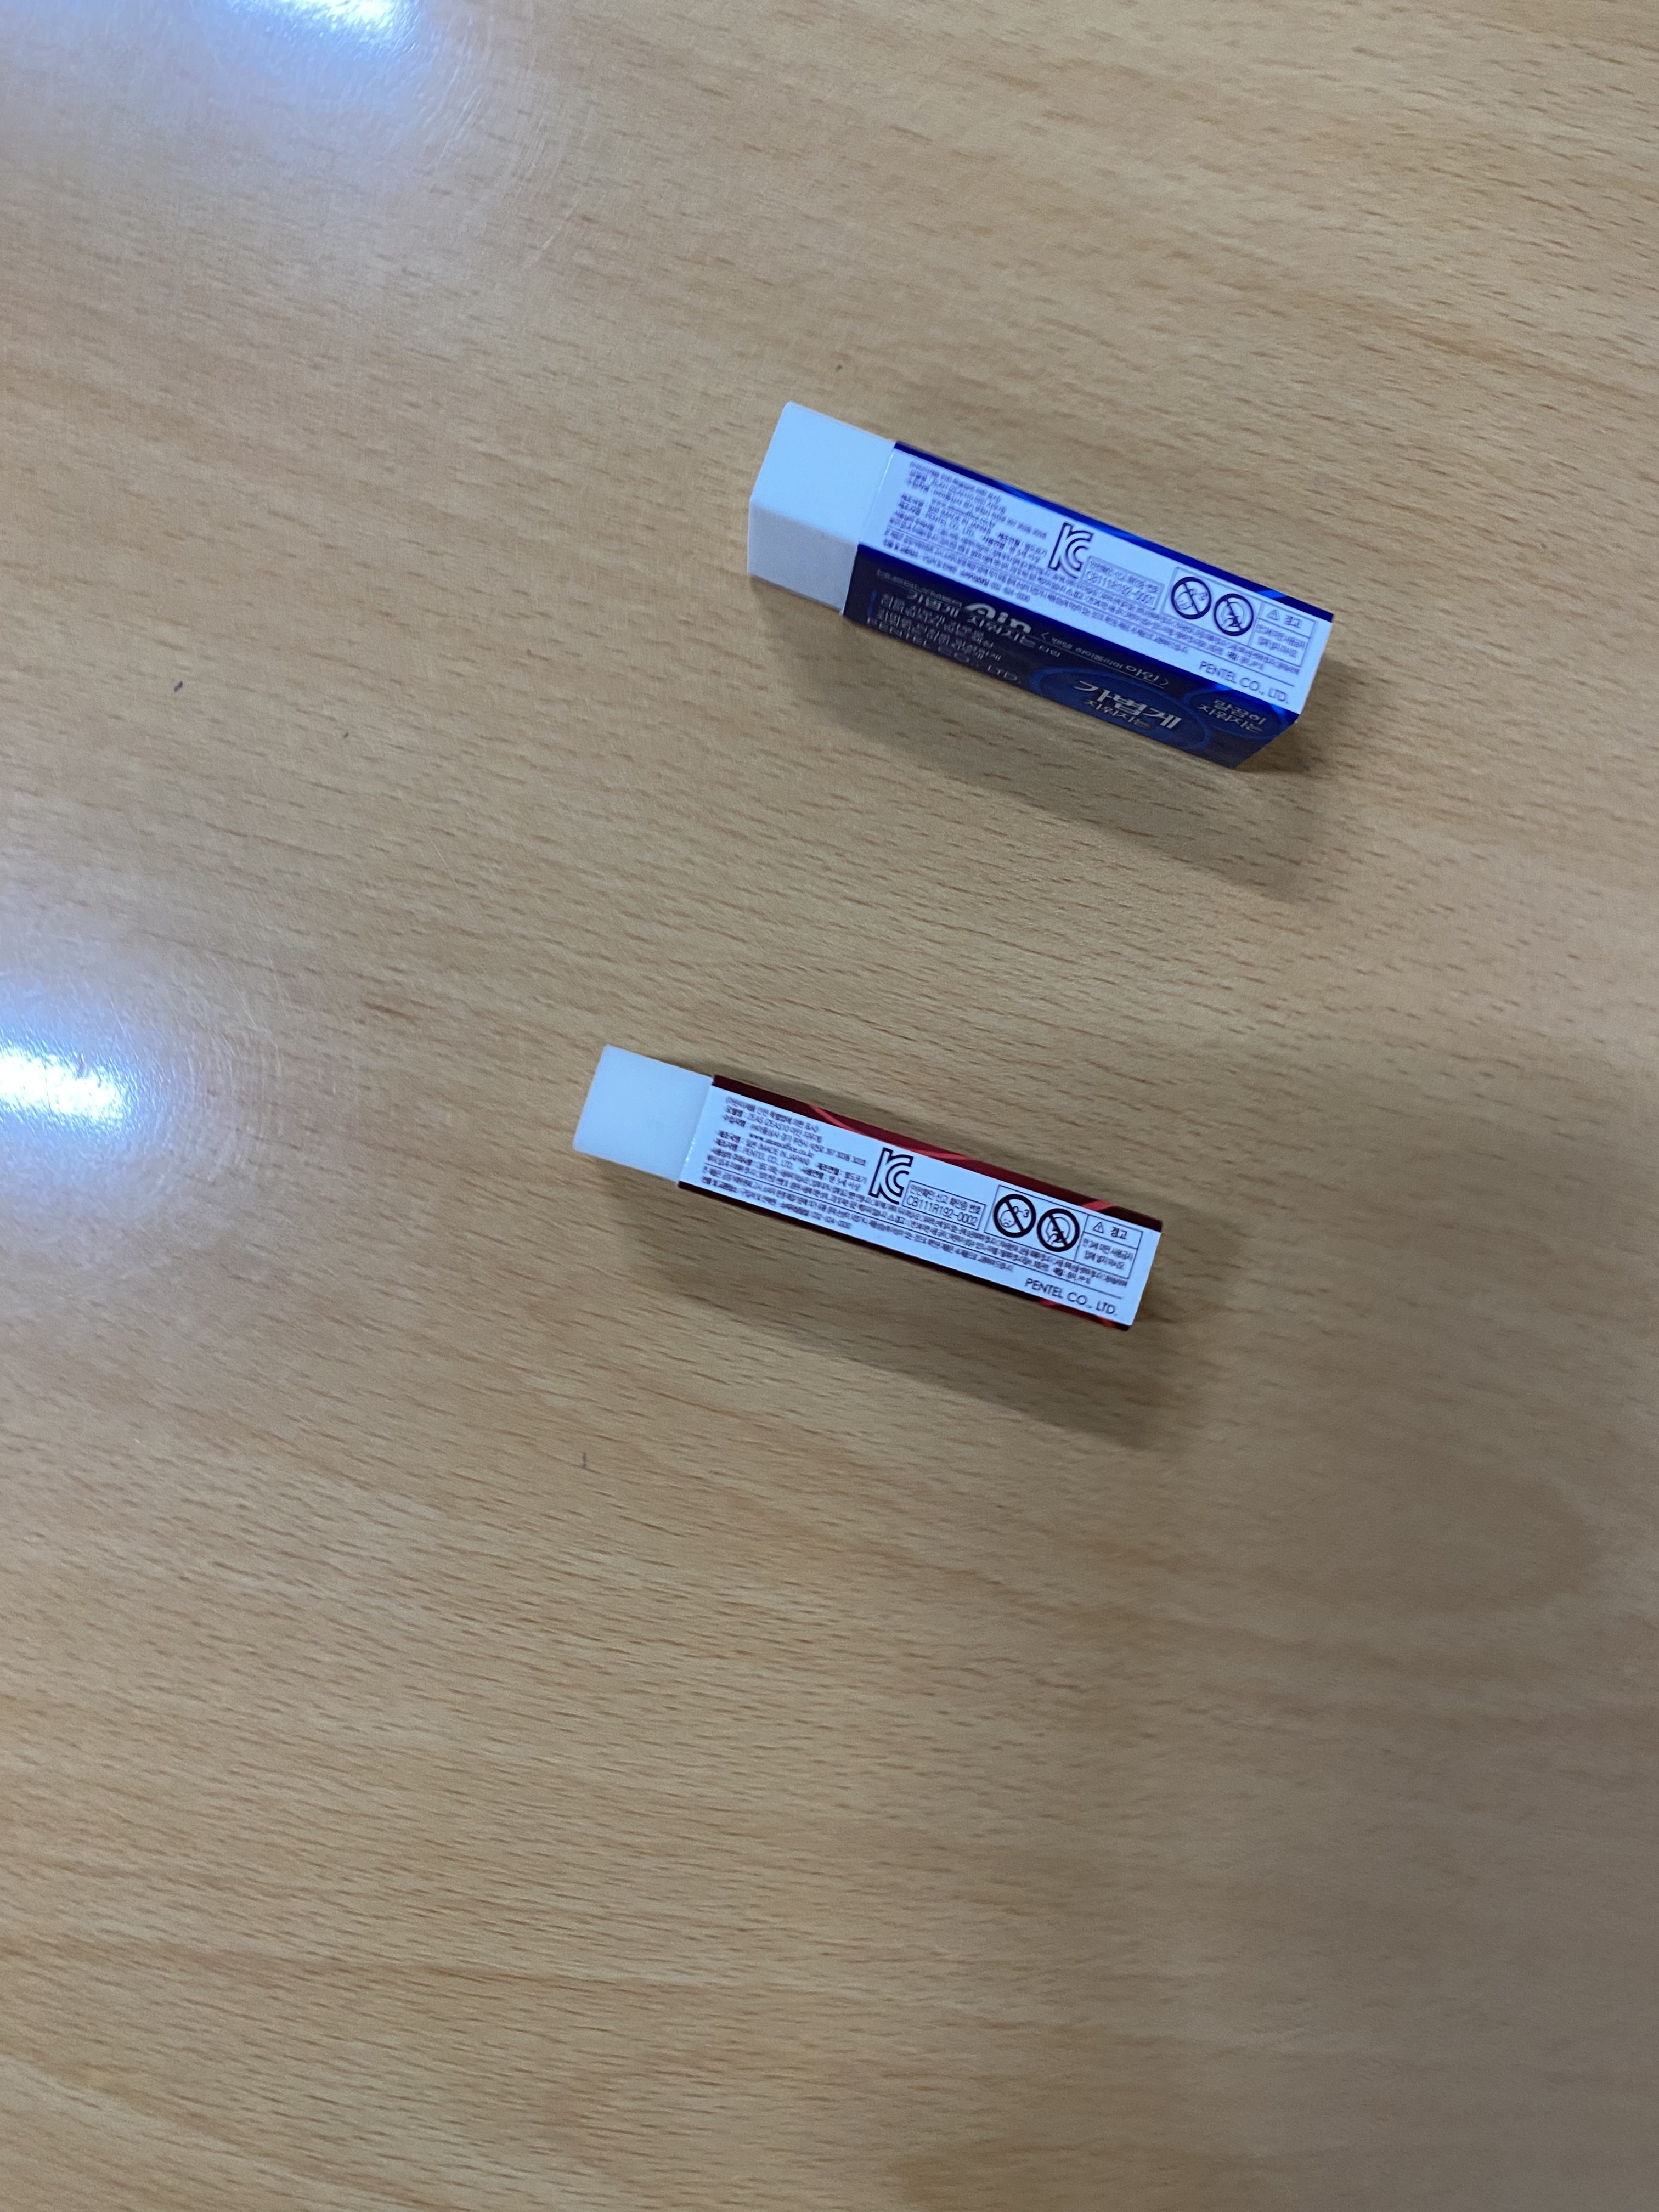blue: (723, 376, 1335, 784)
red: (561, 1029, 1183, 1345)
